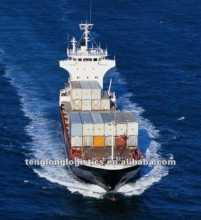Cargoship: (56, 13, 143, 189)
